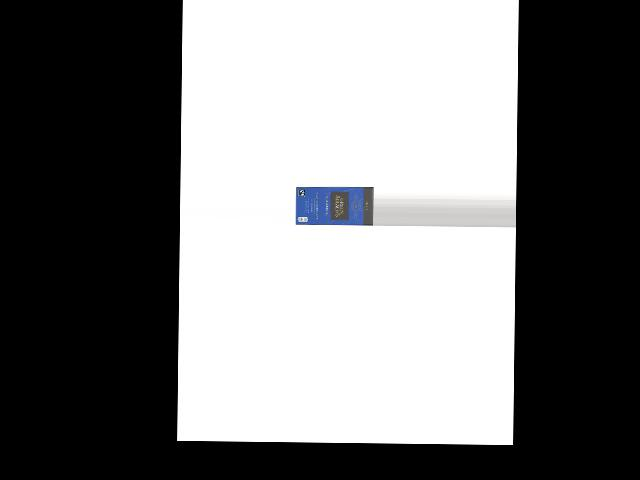chocolate: (296, 185, 373, 226)
